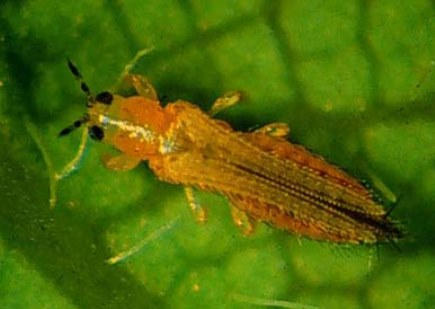Thrips: (58, 53, 402, 261)
